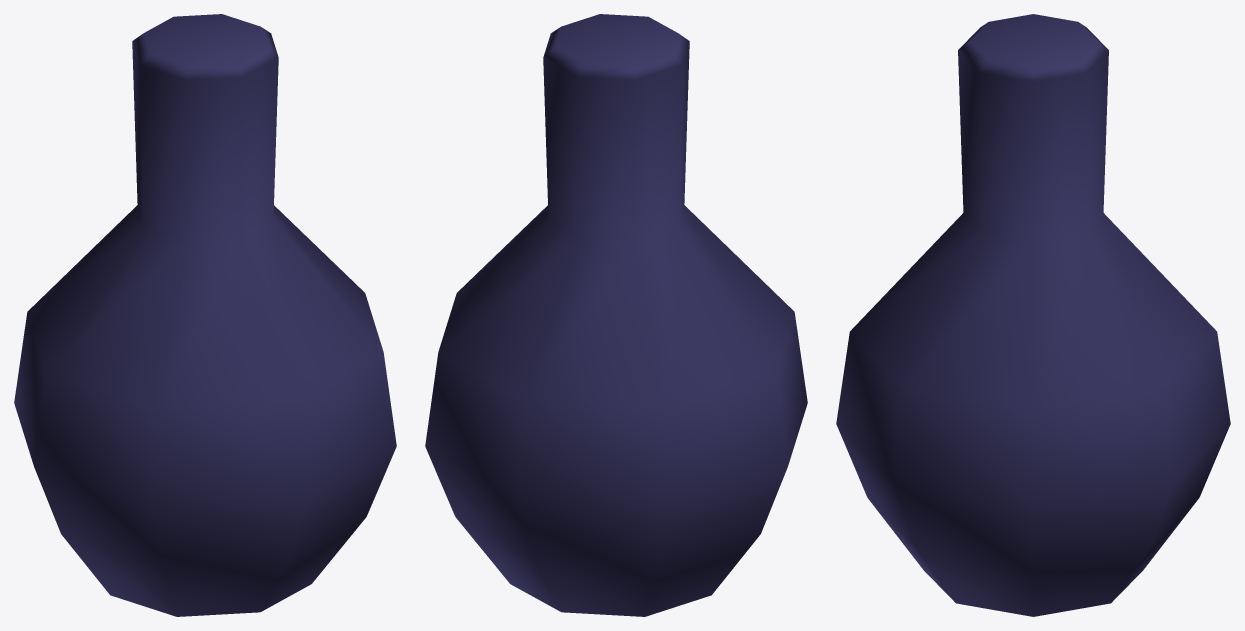
The model's file is Potion_02.fbx.
The picture shows the model from 3 angles, left to right: view 1: azimuth 30°, elevation 25°; view 2: azimuth 150°, elevation 25°; view 3: azimuth 270°, elevation 25°; orthographic projection.
Parts seen in each view (by area): view 1: Potion_02; view 2: Potion_02; view 3: Potion_02.
Boxes of the visible parts, x1,y1,x2,y2 form: Potion_02: (14,14,396,616); Potion_02: (425,14,807,616); Potion_02: (836,14,1230,616).
Size of the model in its own units: 13.95 by 20.67 by 13.95.
